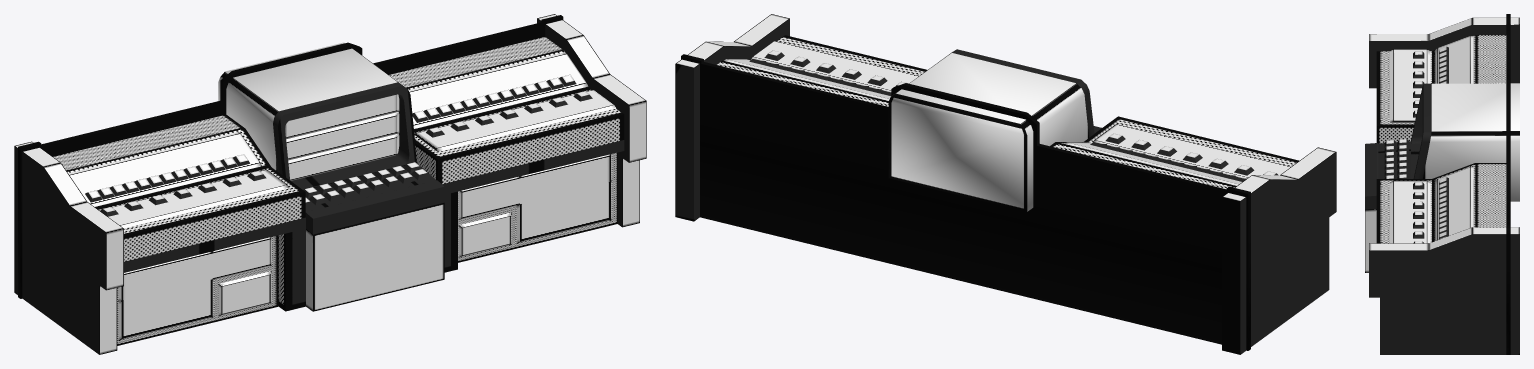
The model's file is Kiosco_Art.fbx.
3 renders of one model, left to right at view 1: azimuth 30°, elevation 25°; view 2: azimuth 150°, elevation 25°; view 3: azimuth 270°, elevation 25°, orthographic. The views are drawn at different scales.
Visible parts, largest first — view 1: Kiosco_Art; view 2: Kiosco_Art; view 3: Kiosco_Art.
Part boxes in pixels (<box>): Kiosco_Art: <box>14,14,646,354</box>; Kiosco_Art: <box>675,14,1336,354</box>; Kiosco_Art: <box>1365,14,1519,354</box>.
Size of the model in its own units: 5.75 by 1.76 by 1.73.
